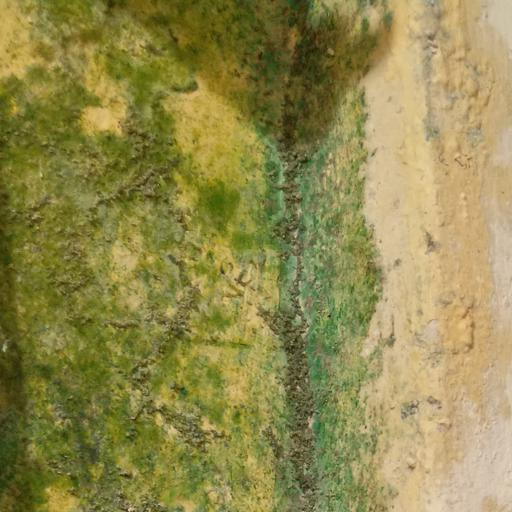algae: (0, 0, 434, 511)
